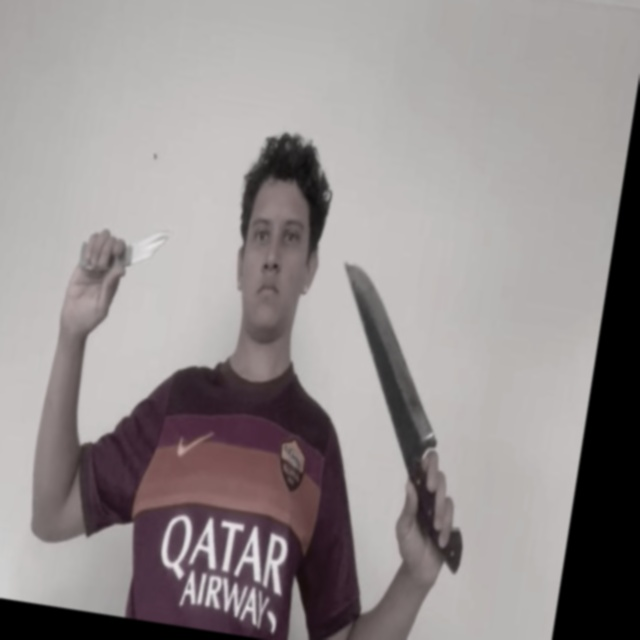Sharp-Object: (320, 260, 461, 444), (128, 224, 174, 268)
